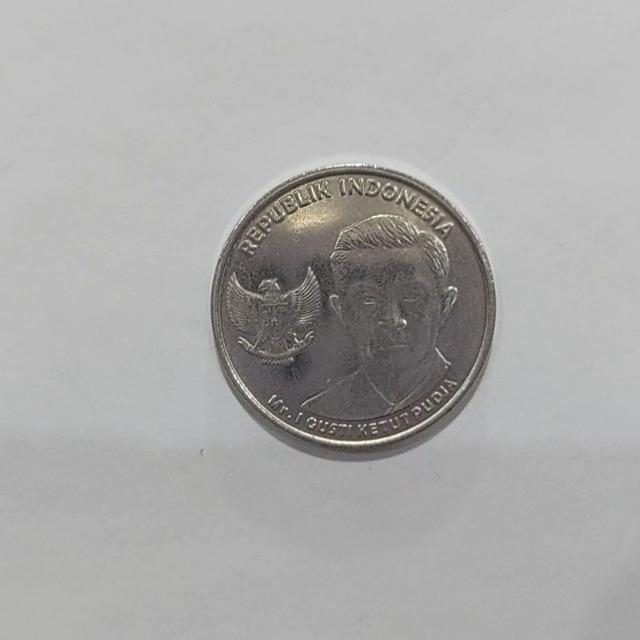Rp100: (209, 158, 498, 455), (293, 211, 461, 424)
